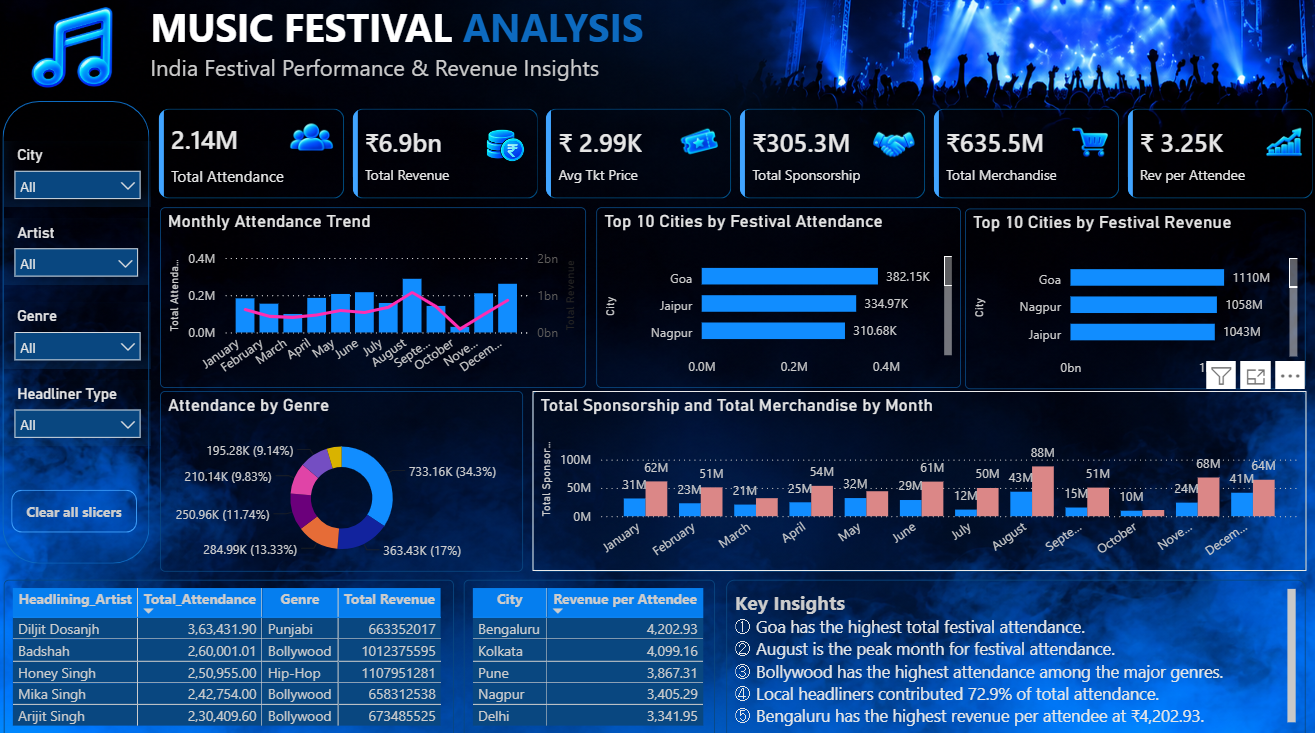

Layout of this report page (visuals, bound fields, positions):
{"tool":"powerbi","page":{"name":"Page 1","canvas":[1280,720],"ordinal":0},"visuals":[{"type":"textbox","box":[144.8,0,529.6,112.2],"z":0},{"type":"cardVisual","fields":{"Data":["Festival_Clean_PowerBI.Total Attendance","Festival_Clean_PowerBI.Total Revenue","Festival_Clean_PowerBI.Average Ticket Price","Festival_Clean_PowerBI.Total Sponsorship","Festival_Clean_PowerBI.Total Merchandise","Festival_Clean_PowerBI.Revenue per Attendee"]},"box":[150.8,101.8,1129.2,101.3],"z":1000},{"type":"shape","box":[7.5,101.8,142,446.5],"z":2000},{"type":"slicer","fields":{"Values":["Festival_Clean_PowerBI.City"]},"box":[8.4,139.9,142.4,63.9],"z":3000},{"type":"slicer","fields":{"Values":["Festival_Clean_PowerBI.Headliner Type"]},"box":[9,370.4,142.4,63.9],"z":4000},{"type":"slicer","fields":{"Values":["Artist_Popularity_Clean_PowerBI.Genre"]},"box":[9,295.5,142.4,63.9],"z":5000},{"type":"slicer","fields":{"Values":["Artist_Popularity_Clean_PowerBI.Artist_Name"]},"box":[9,214.2,139.9,63.9],"z":6000},{"type":"image","box":[8.8,10.1,128.2,79.2],"z":7000},{"type":"actionButton","box":[15.5,476.2,121.3,41.3],"z":8000},{"type":"lineStackedColumnComboChart","title":"Monthly Attendance Trend","fields":{"Y":["Festival_Clean_PowerBI.Total Attendance"],"Category":["Festival_Clean_PowerBI.Date.Variation.Date Hierarchy.Month"],"Y2":["Festival_Clean_PowerBI.Total Revenue"]},"box":[159.6,203.5,410.8,174.6],"z":8001},{"type":"clusteredBarChart","title":"Top 10 Cities by Festival Attendance","fields":{"Category":["Festival_Clean_PowerBI.City"],"Y":["Sum(Festival_Clean_PowerBI.Total_Attendance)"]},"box":[580.4,203.5,351.8,174.6],"z":8002},{"type":"clusteredBarChart","title":"Top 10 Cities by Festival Revenue","fields":{"Category":["Festival_Clean_PowerBI.City"],"Y":["Festival_Clean_PowerBI.Total Revenue"]},"box":[936,204.8,329.2,174.6],"z":8003},{"type":"donutChart","title":"Attendance by Genre","fields":{"Category":["Artist_Popularity_Clean_PowerBI.Genre"],"Y":["Festival_Clean_PowerBI.Total Attendance"]},"box":[159.6,380.7,350.5,174],"z":8004},{"type":"clusteredColumnChart","fields":{"Category":["Festival_Clean_PowerBI.Date.Variation.Date Hierarchy.Month"],"Y":["Festival_Clean_PowerBI.Total Sponsorship","Festival_Clean_PowerBI.Total Merchandise"]},"box":[518.9,380.7,746.3,174.6],"z":8005},{"type":"tableEx","fields":{"Values":["Festival_Clean_PowerBI.Headlining_Artist","Sum(Festival_Clean_PowerBI.Total_Attendance)","Artist_Popularity_Clean_PowerBI.Genre","Festival_Clean_PowerBI.Total Revenue"]},"box":[8.8,562.9,434.7,157],"z":8006},{"type":"tableEx","fields":{"Values":["Festival_Clean_PowerBI.City","Festival_Clean_PowerBI.Revenue per Attendee"]},"box":[452.3,562.9,242.5,157],"z":8007},{"type":"textbox","box":[706.1,562.9,559.1,157],"z":8008}]}

Visuals, with their boxes in screenshot pixels (x1, y1, x2, y2), scaled from the page's 1280x720 canvas onto the 1315x733 screenshot:
textbox: crop(149, 0, 693, 114)
cardVisual - Festival_Clean_PowerBI.Total Attendance x Festival_Clean_PowerBI.Total Revenue: crop(155, 104, 1314, 207)
shape: crop(8, 104, 154, 558)
slicer - Festival_Clean_PowerBI.City: crop(9, 142, 155, 207)
slicer - Festival_Clean_PowerBI.Headliner Type: crop(9, 377, 156, 442)
slicer - Artist_Popularity_Clean_PowerBI.Genre: crop(9, 301, 156, 366)
slicer - Artist_Popularity_Clean_PowerBI.Artist_Name: crop(9, 218, 153, 283)
image: crop(9, 10, 141, 91)
actionButton: crop(16, 485, 141, 527)
"Monthly Attendance Trend" lineStackedColumnComboChart: crop(164, 207, 586, 385)
"Top 10 Cities by Festival Attendance" clusteredBarChart: crop(596, 207, 958, 385)
"Top 10 Cities by Festival Revenue" clusteredBarChart: crop(962, 208, 1300, 386)
"Attendance by Genre" donutChart: crop(164, 388, 524, 565)
clusteredColumnChart - Festival_Clean_PowerBI.Date.Variation.Date Hierarchy.Month x Festival_Clean_PowerBI.Total Sponsorship: crop(533, 388, 1300, 565)
tableEx - Festival_Clean_PowerBI.Headlining_Artist x Sum(Festival_Clean_PowerBI.Total_Attendance): crop(9, 573, 456, 732)
tableEx - Festival_Clean_PowerBI.City x Festival_Clean_PowerBI.Revenue per Attendee: crop(465, 573, 714, 732)
textbox: crop(725, 573, 1300, 732)
